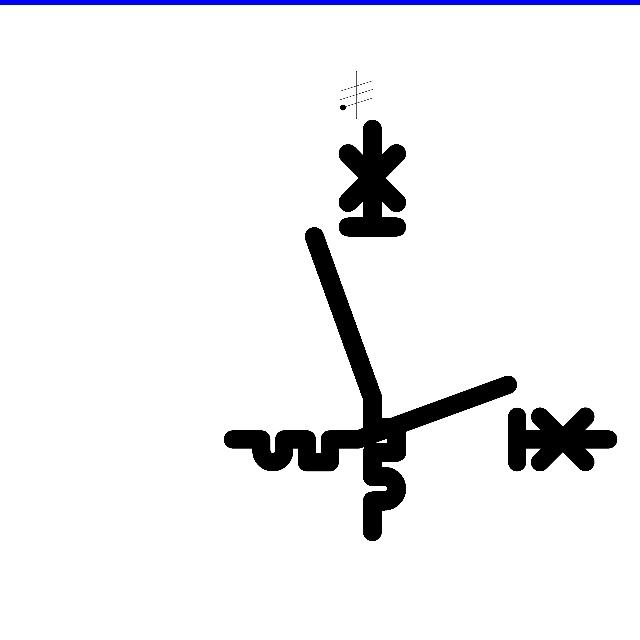interruptor_termomagnetico: (304, 118, 407, 541), (223, 375, 618, 472)
